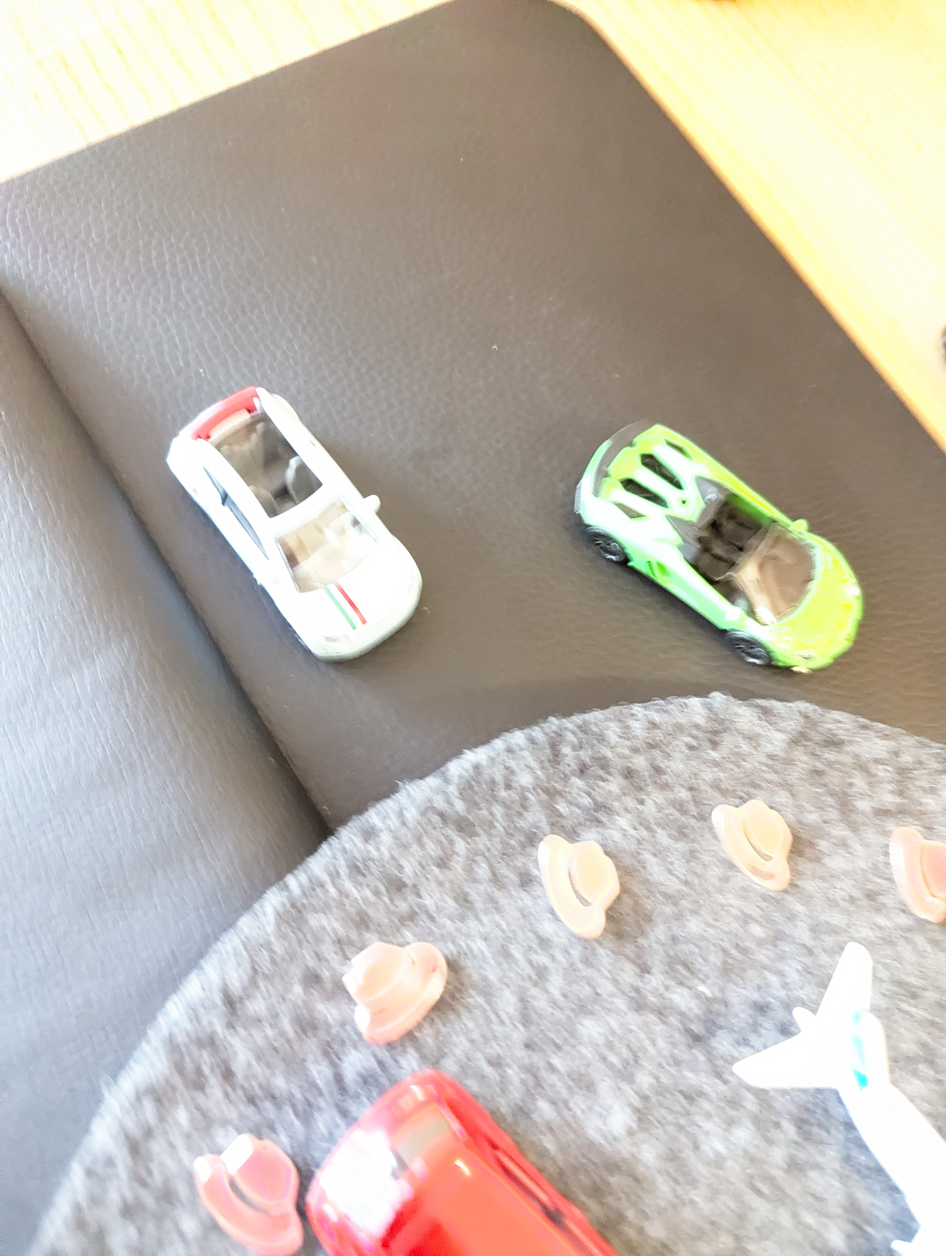Car: (559, 396, 897, 689), (142, 359, 448, 682)
Red-Hat: (305, 915, 462, 1050), (171, 1118, 323, 1256), (511, 809, 634, 961), (689, 784, 803, 913), (874, 794, 946, 944)
Scratch: (728, 855, 789, 891)
